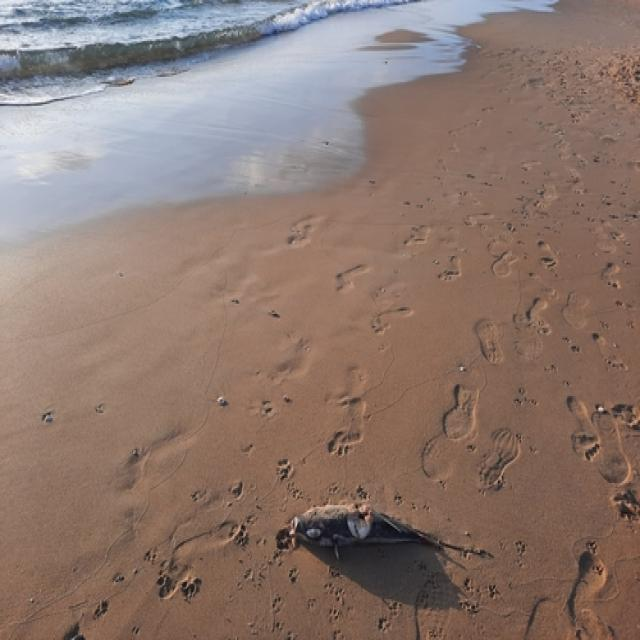Balik: (277, 504, 490, 558)
